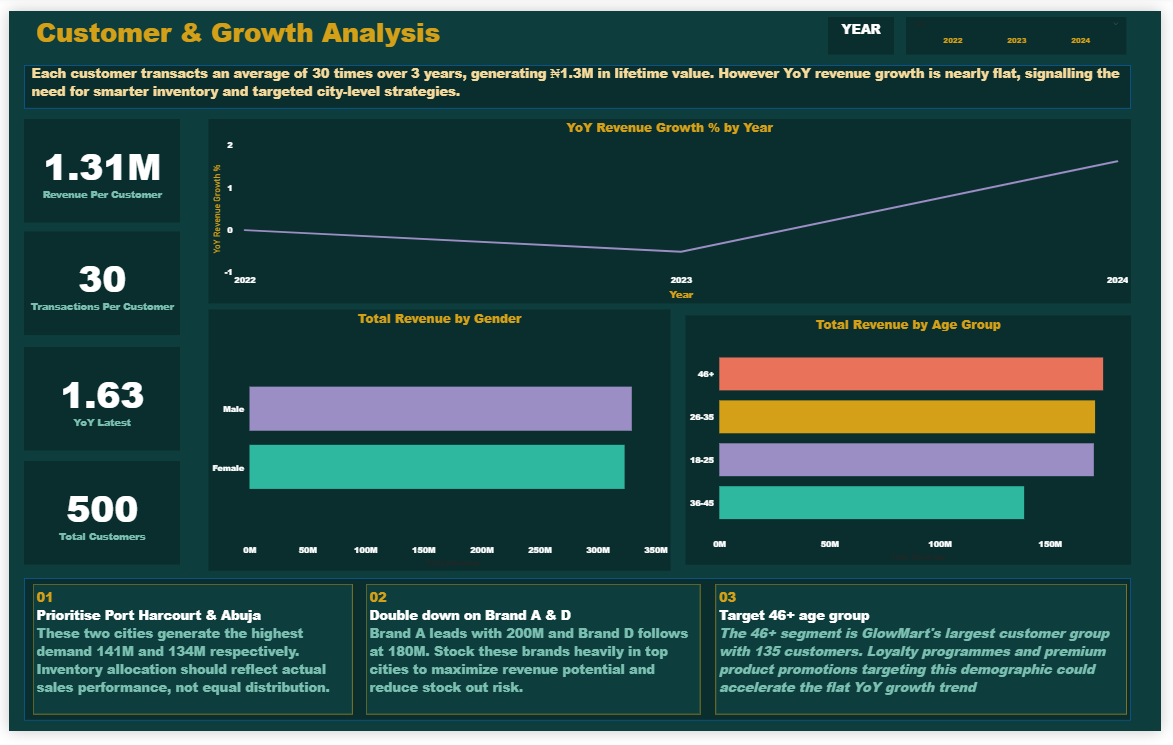

This screenshot's page, from the dashboard's own definition file:
{"tool":"powerbi","page":{"name":"Customer & Growth","canvas":[1920,1200],"ordinal":4},"visuals":[{"type":"card","fields":{"Values":["_Measures.Revenue Per Customer"]},"box":[25,180,260,172.5],"z":0},{"type":"shape","box":[25,945,1845,237.5],"z":1000},{"type":"lineChart","fields":{"Category":["Date.Date.Variation.Date Hierarchy.Year"],"Y":["_Measures.YoY Revenue Growth %"]},"box":[332.5,180,1537.5,307.5],"z":2000},{"type":"clusteredBarChart","title":"Total Revenue by Age Group","fields":{"Category":["Customer.AgeGroup"],"Y":["_Measures.Total Revenue"]},"box":[1127.5,507.5,742.5,415],"z":3000},{"type":"clusteredBarChart","fields":{"Y":["_Measures.Total Revenue"],"Category":["Customer.Gender"]},"box":[332.5,497.5,770,435],"z":4000},{"type":"card","fields":{"Values":["_Measures.Transactions Per Customer"]},"box":[25,367.5,260,172.5],"z":5000},{"type":"card","fields":{"Values":["_Measures.YoY Latest"]},"box":[25,560,260,172.5],"z":6000},{"type":"card","fields":{"Values":["_Measures.Total Customers"]},"box":[25,750,260,172.5],"z":7000},{"type":"textbox","box":[40,0,952.5,72.5],"z":8000},{"type":"textbox","box":[40,955,532.5,217.5],"z":9000},{"type":"shape","box":[25,90,1845,72.5],"z":10000},{"type":"textbox","box":[32.5,82.5,1830,80],"z":11000},{"type":"textbox","box":[595,955,557.5,217.5],"z":12000},{"type":"textbox","box":[1177.5,955,685,217.5],"z":13000},{"type":"slicer","fields":{"Values":["Date.Date.Variation.Date Hierarchy.Year"]},"box":[1495,10,367.5,62.5],"z":14000},{"type":"textbox","box":[1365,10,110,62.5],"z":15000}]}

Visuals, with their boxes in screenshot pixels (x1, y1, x2, y2), scaled from the page's 1920x1200 canvas onto the 1173x745 screenshot:
card - _Measures.Revenue Per Customer: bbox=[15, 112, 174, 219]
shape: bbox=[15, 587, 1142, 734]
lineChart - Date.Date.Variation.Date Hierarchy.Year x _Measures.YoY Revenue Growth %: bbox=[203, 112, 1142, 303]
"Total Revenue by Age Group" clusteredBarChart: bbox=[689, 315, 1142, 573]
clusteredBarChart - _Measures.Total Revenue x Customer.Gender: bbox=[203, 309, 674, 579]
card - _Measures.Transactions Per Customer: bbox=[15, 228, 174, 335]
card - _Measures.YoY Latest: bbox=[15, 348, 174, 455]
card - _Measures.Total Customers: bbox=[15, 466, 174, 573]
textbox: bbox=[24, 0, 606, 45]
textbox: bbox=[24, 593, 350, 728]
shape: bbox=[15, 56, 1142, 101]
textbox: bbox=[20, 51, 1138, 101]
textbox: bbox=[364, 593, 704, 728]
textbox: bbox=[719, 593, 1138, 728]
slicer - Date.Date.Variation.Date Hierarchy.Year: bbox=[913, 6, 1138, 45]
textbox: bbox=[834, 6, 901, 45]
